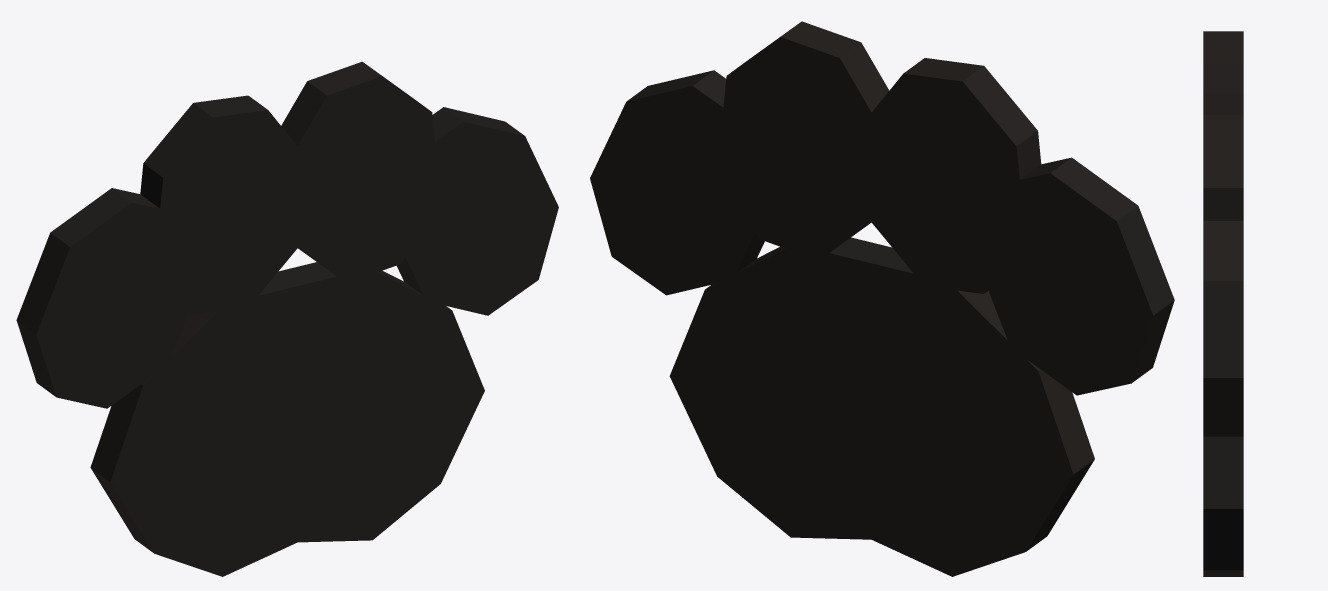
File: FX_HuntMark.fbx
The picture shows the model from 3 angles, left to right: view 1: azimuth 30°, elevation 25°; view 2: azimuth 150°, elevation 25°; view 3: azimuth 270°, elevation 25°; orthographic projection. The views are drawn at different scales.
Parts seen in each view (by area): view 1: FX_HuntMark; view 2: FX_HuntMark; view 3: FX_HuntMark.
Boxes of the visible parts, x1,y1,x2,y2 form: FX_HuntMark: [16, 61, 558, 576]; FX_HuntMark: [590, 21, 1174, 576]; FX_HuntMark: [1203, 31, 1243, 576].
Size of the model in its own units: 0.4547 by 0.082 by 0.4109.
